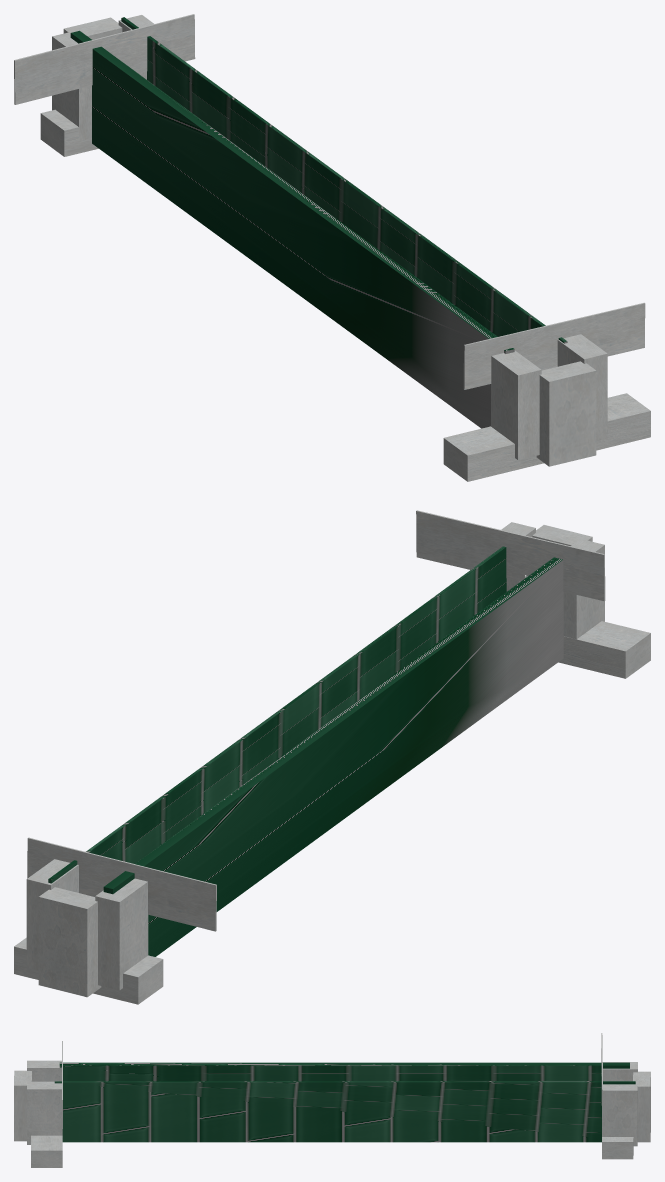
The model's file is Corridorv3.glb.
The picture shows the model from 3 angles, top to bottom: view 1: azimuth 30°, elevation 25°; view 2: azimuth 150°, elevation 25°; view 3: azimuth 270°, elevation 25°; orthographic projection. The views are drawn at different scales.
Visible parts, largest first — view 1: wall2, wall1_1, Cube.001, Cube.003, elev3, Cube.004, elev1, elev2, elev5, Cube.009, elev4; view 2: wall2, wall1_1, Cube.003, Cube.001, elev4, elev5, Cube.004, Cube.009, elev6, elev1, elev3; view 3: wall1_1, wall2, elev2, elev6, Cube.004, elev3, elev4, Cube.009, elev1, elev5.
Boxes of the visible parts, bbox=[...] form: wall2: bbox=[70, 30, 514, 428]; wall1_1: bbox=[121, 17, 567, 343]; Cube.001: bbox=[14, 14, 195, 104]; Cube.003: bbox=[463, 302, 645, 389]; elev3: bbox=[536, 361, 596, 466]; Cube.004: bbox=[443, 393, 650, 481]; elev1: bbox=[491, 350, 541, 460]; elev2: bbox=[557, 334, 607, 440]; elev5: bbox=[52, 31, 91, 140]; Cube.009: bbox=[40, 109, 98, 156]; elev4: bbox=[63, 17, 122, 39]; wall2: bbox=[103, 557, 563, 956]; wall1_1: bbox=[48, 546, 506, 883]; Cube.003: bbox=[416, 510, 605, 601]; Cube.001: bbox=[27, 837, 216, 931]; elev4: bbox=[38, 887, 101, 997]; elev5: bbox=[95, 878, 148, 990]; Cube.004: bbox=[558, 621, 650, 678]; Cube.009: bbox=[14, 937, 163, 1004]; elev6: bbox=[26, 859, 78, 970]; elev1: bbox=[563, 539, 604, 639]; elev3: bbox=[532, 525, 592, 545]; wall1_1: bbox=[54, 1081, 635, 1142]; wall2: bbox=[59, 1062, 629, 1081]; elev2: bbox=[27, 1081, 62, 1144]; elev6: bbox=[602, 1083, 637, 1146]; Cube.004: bbox=[31, 1135, 62, 1167]; elev3: bbox=[14, 1070, 31, 1141]; elev4: bbox=[633, 1071, 650, 1142]; Cube.009: bbox=[602, 1137, 633, 1159]; elev1: bbox=[27, 1060, 61, 1081]; elev5: bbox=[602, 1062, 637, 1081].
Size of the model in its own units: 65.25 by 33.03 by 250.
6 materials, 3 textured.
